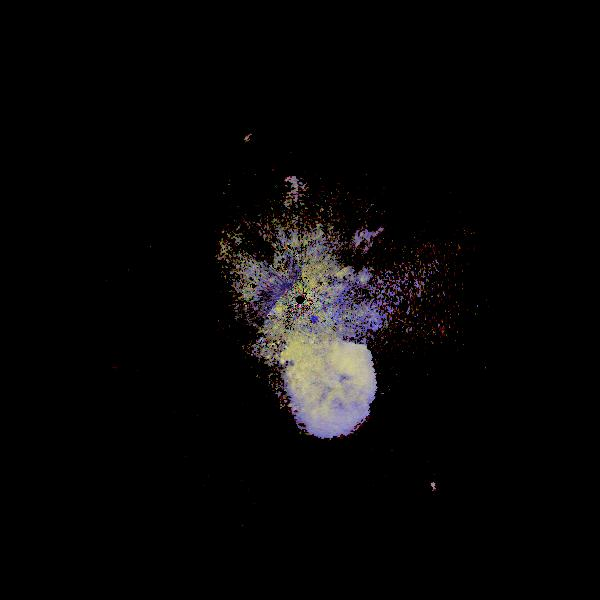roost: (230, 298, 407, 475)
